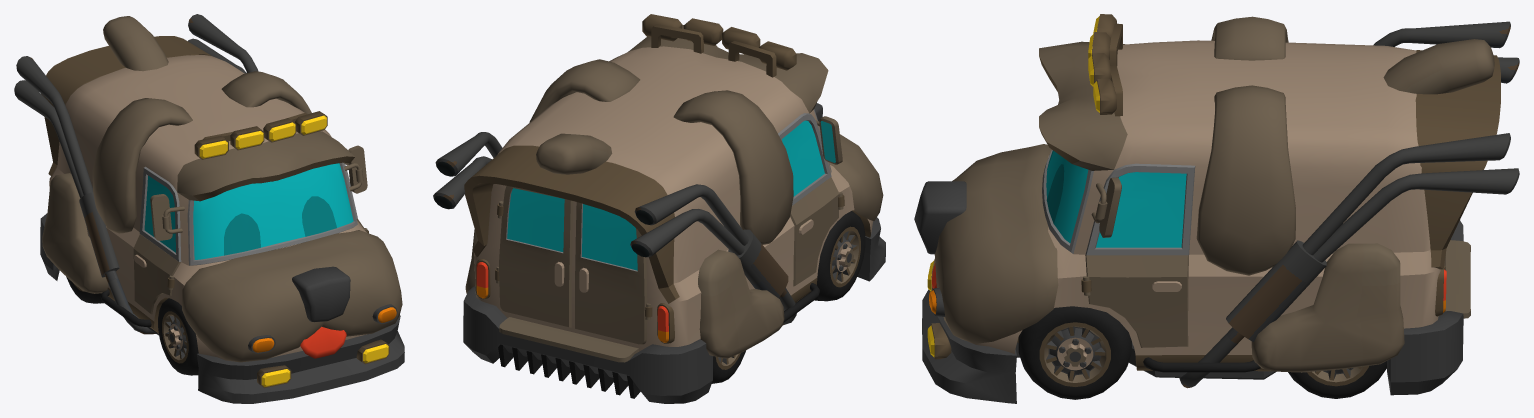
Rendered from VEH25-B.fbx.
3 views of the same model, side by side, from view 1: azimuth 30°, elevation 25°; view 2: azimuth 150°, elevation 25°; view 3: azimuth 270°, elevation 25° (orthographic). The views are drawn at different scales.
Visible parts, largest first — view 1: VEH25_B, VEH25B_Wheel_FR, VEH25B_Wheel_BR; view 2: VEH25_B, VEH25B_Wheel_FR, VEH25B_Wheel_BR; view 3: VEH25_B, VEH25B_Wheel_FL, VEH25B_Wheel_BL.
Boxes of the visible parts, x1,y1,x2,y2 form: VEH25_B: [14, 14, 404, 403]; VEH25B_Wheel_FR: [158, 298, 198, 375]; VEH25B_Wheel_BR: [66, 276, 103, 303]; VEH25_B: [433, 14, 885, 403]; VEH25B_Wheel_FR: [814, 211, 865, 301]; VEH25B_Wheel_BR: [711, 350, 745, 383]; VEH25_B: [914, 14, 1519, 403]; VEH25B_Wheel_FL: [1018, 306, 1131, 399]; VEH25B_Wheel_BL: [1288, 361, 1386, 398].
Bounding box in the file's own units: 282 × 259 × 475.
Materials: 1 (1 with a texture image).
